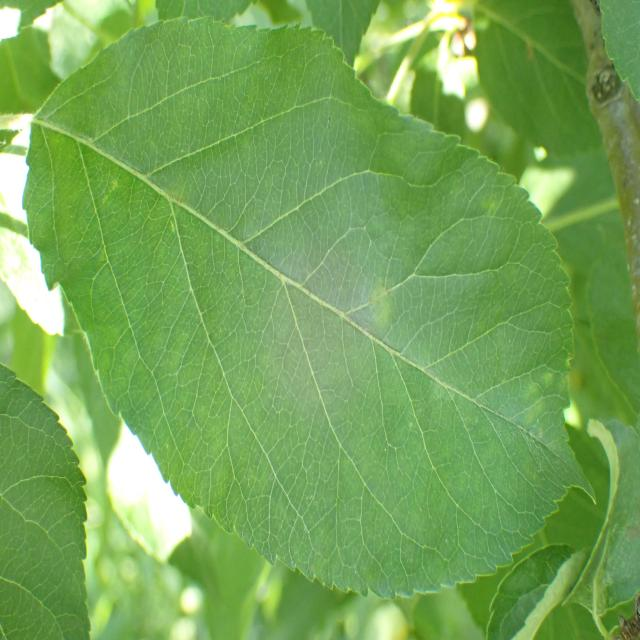scab: (72, 130, 514, 473)
